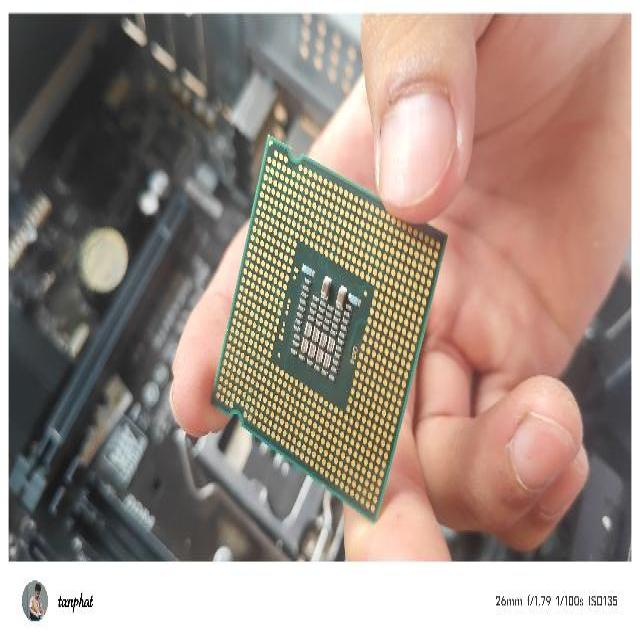CPU: (211, 133, 449, 526)
